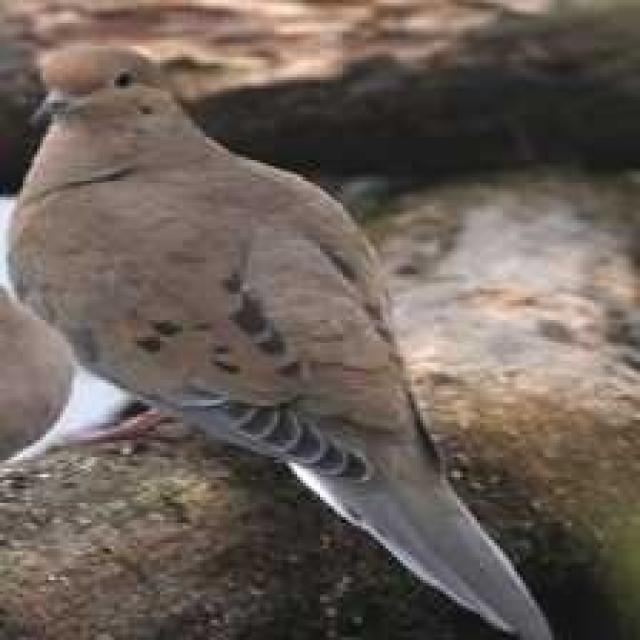bird: (2, 33, 570, 640)
